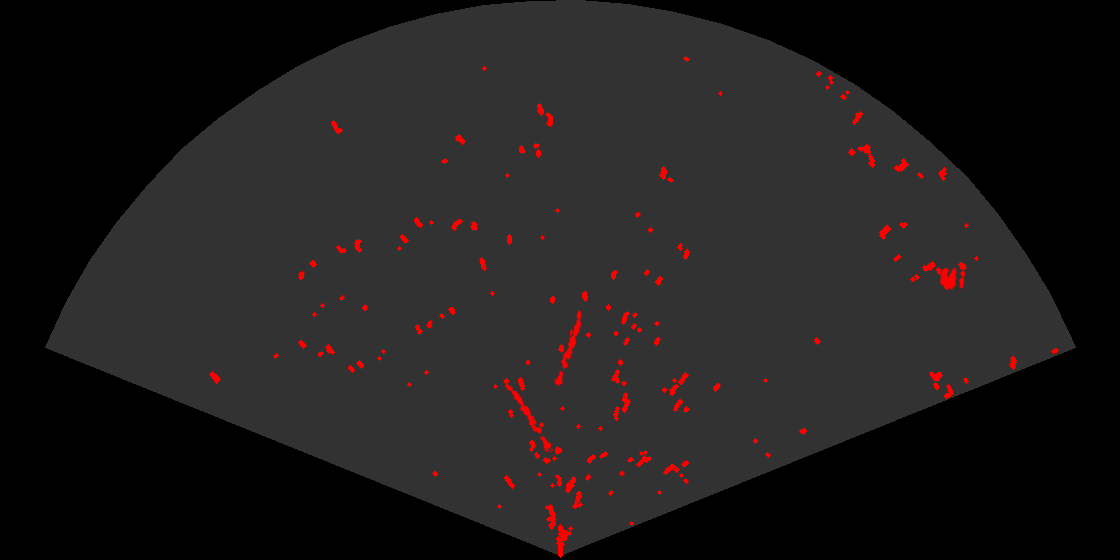ball: (938, 265, 967, 292)
chain: (503, 382, 556, 455), (553, 308, 584, 391)
